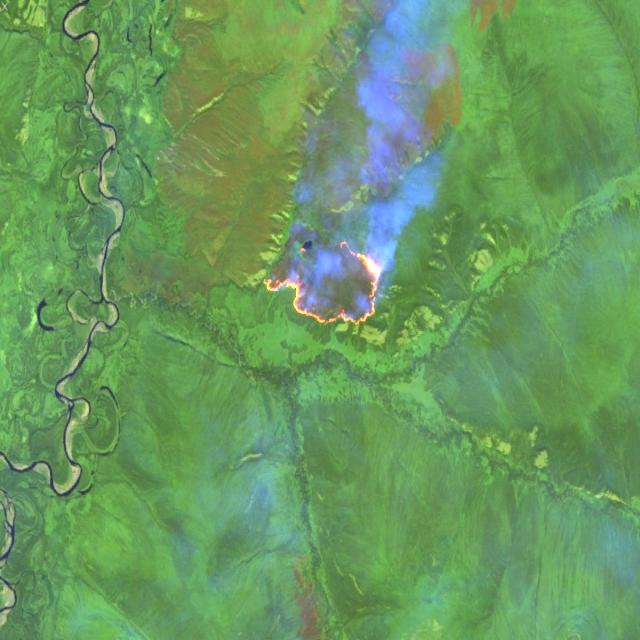fire: (256, 236, 386, 326)
